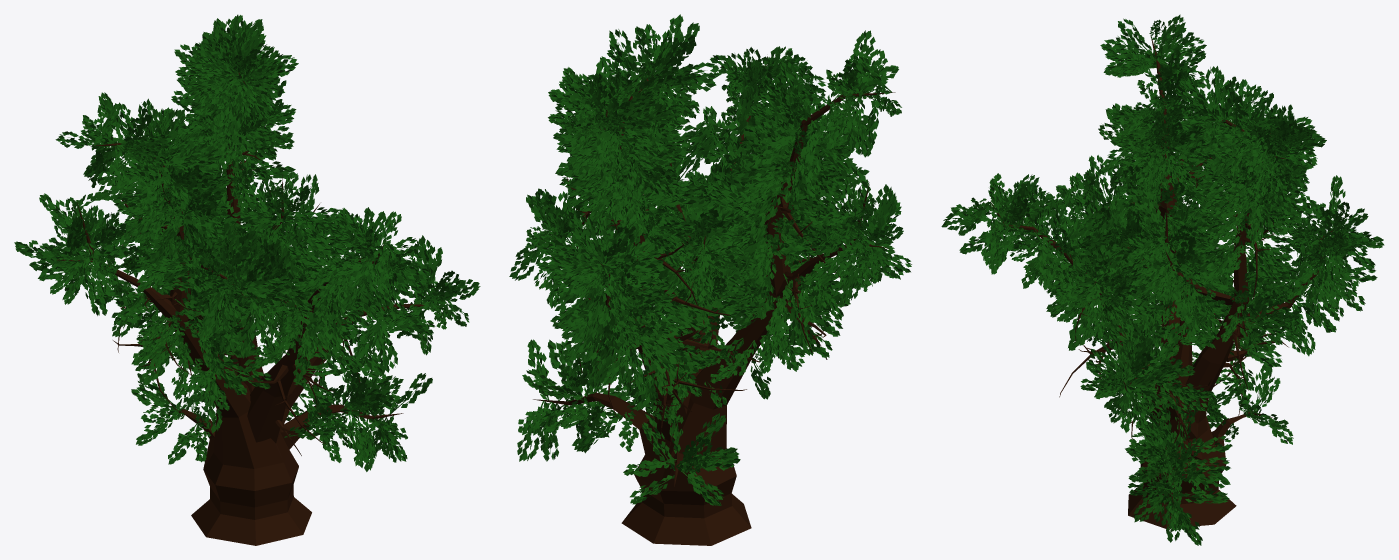
Rendered from Tree2.fbx.
3 views of the same model, side by side, from view 1: azimuth 30°, elevation 25°; view 2: azimuth 150°, elevation 25°; view 3: azimuth 270°, elevation 25° (orthographic). The views are drawn at different scales.
Parts seen in each view (by area): view 1: TREE, TREE|Leaves|Dupli|223.1, TREE|Leaves|Dupli|972.1, TREE|Leaves|Dupli|122.1; view 2: TREE, TREE|Leaves|Dupli|597.1, TREE|Leaves|Dupli|588.1, TREE|Leaves|Dupli|841.1, TREE|Leaves|Dupli|408.1, TREE|Leaves|Dupli|1109.1, TREE|Leaves|Dupli|462.1, TREE|Leaves|Dupli|825.1, TREE|Leaves|Dupli|16.1, TREE|Leaves|Dupli|655.1, TREE|Leaves|Dupli|1050.1, TREE|Leaves|Dupli|487.1 (+29 smaller); view 3: TREE, TREE|Leaves|Dupli|778.1.
Boxes of the visible parts, x1,y1,x2,y2 form: TREE: (56, 72, 424, 545); TREE|Leaves|Dupli|223.1: (375, 317, 397, 372); TREE|Leaves|Dupli|972.1: (237, 298, 258, 358); TREE|Leaves|Dupli|122.1: (228, 82, 247, 138); TREE: (533, 56, 895, 545); TREE|Leaves|Dupli|597.1: (799, 120, 821, 182); TREE|Leaves|Dupli|588.1: (751, 127, 801, 168); TREE|Leaves|Dupli|841.1: (750, 183, 783, 240); TREE|Leaves|Dupli|408.1: (735, 85, 759, 147); TREE|Leaves|Dupli|1109.1: (692, 244, 714, 301); TREE|Leaves|Dupli|462.1: (572, 415, 623, 451); TREE|Leaves|Dupli|825.1: (675, 134, 714, 181); TREE|Leaves|Dupli|16.1: (661, 299, 704, 327); TREE|Leaves|Dupli|655.1: (822, 142, 867, 189); TREE|Leaves|Dupli|1050.1: (643, 185, 704, 207); TREE|Leaves|Dupli|487.1: (517, 400, 548, 461); TREE: (990, 35, 1333, 528); TREE|Leaves|Dupli|778.1: (1181, 283, 1198, 340).
Bounding box in the file's own units: 1655 × 1900 × 1752.
